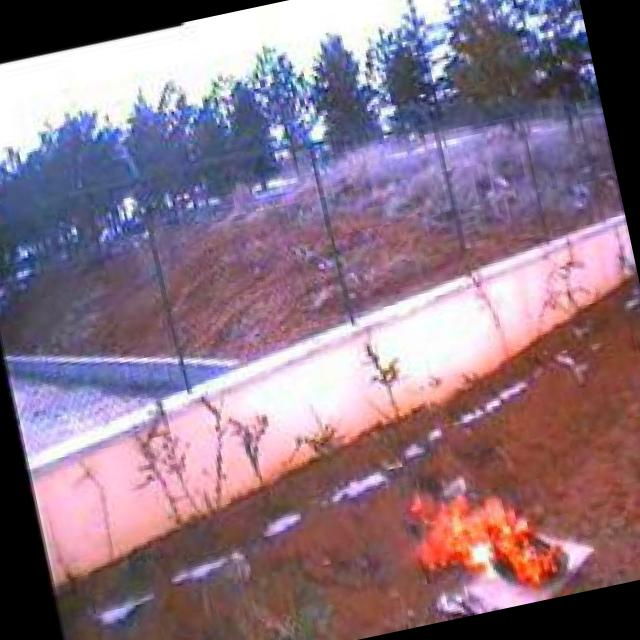Fire: (404, 466, 572, 610), (404, 466, 572, 610)
